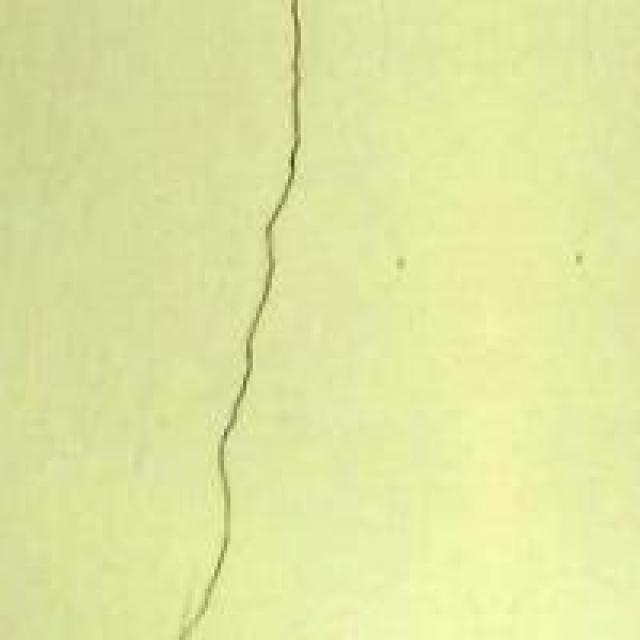Crack: (183, 0, 375, 637)
